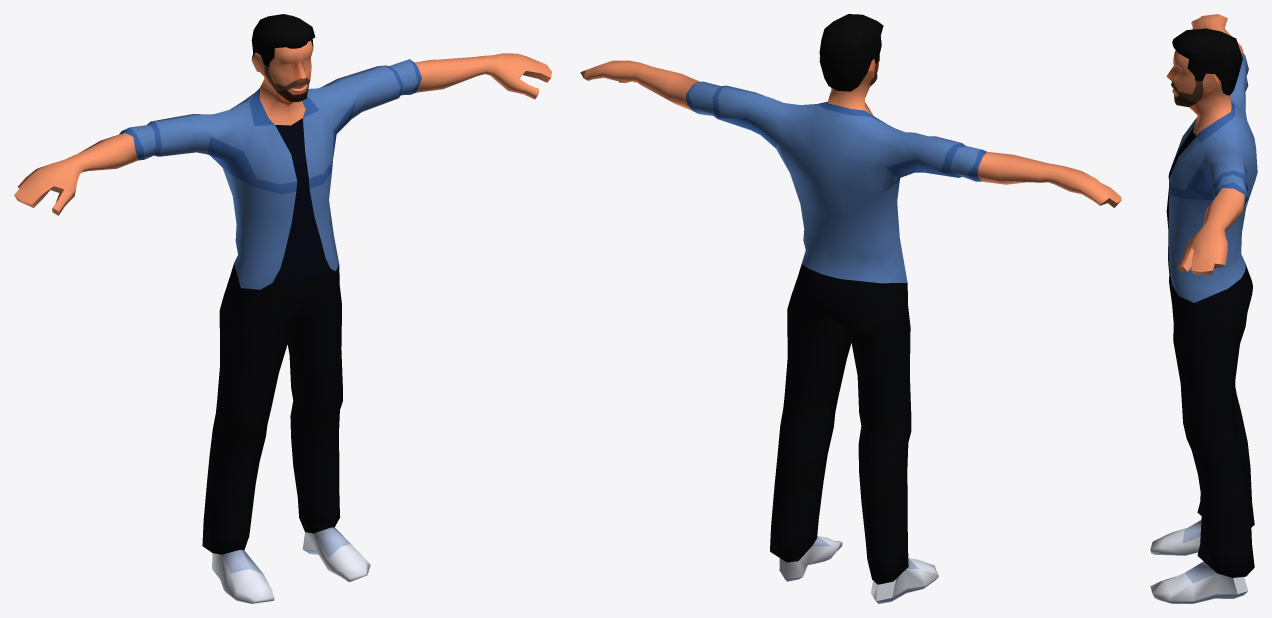
File: Male_Model_02.FBX
3 renders of one model, left to right at view 1: azimuth 30°, elevation 25°; view 2: azimuth 150°, elevation 25°; view 3: azimuth 270°, elevation 25°, orthographic. The views are drawn at different scales.
Visible parts, largest first — view 1: lpMaleG005; view 2: lpMaleG005; view 3: lpMaleG005.
Part boxes in pixels (left/top/right/bottom): lpMaleG005: left=14, top=14, right=551, bottom=603; lpMaleG005: left=580, top=14, right=1121, bottom=603; lpMaleG005: left=1150, top=14, right=1257, bottom=603.
Size of the model in its own units: 71.96 by 71.67 by 12.85.
